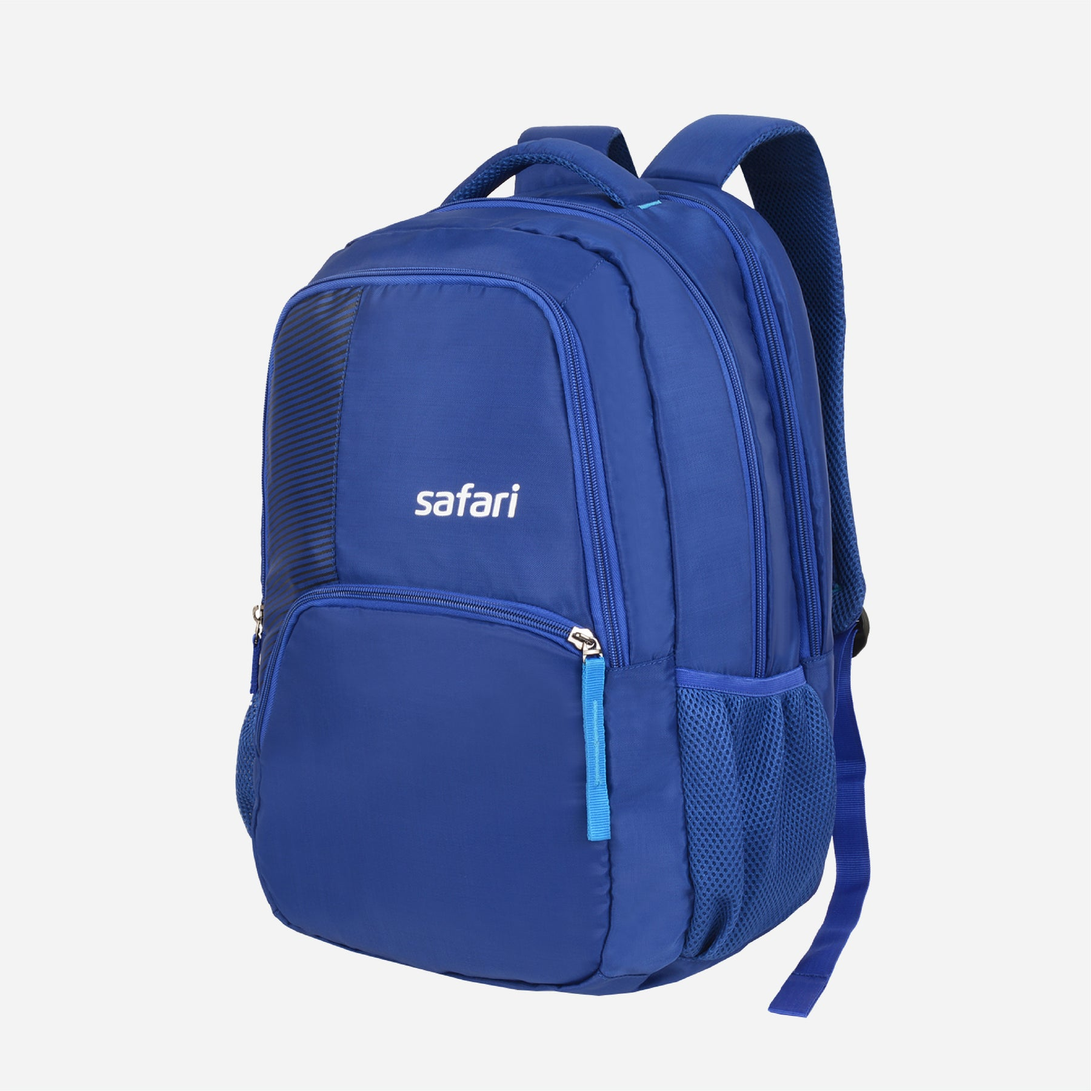backpack: (235, 112, 872, 1016)
